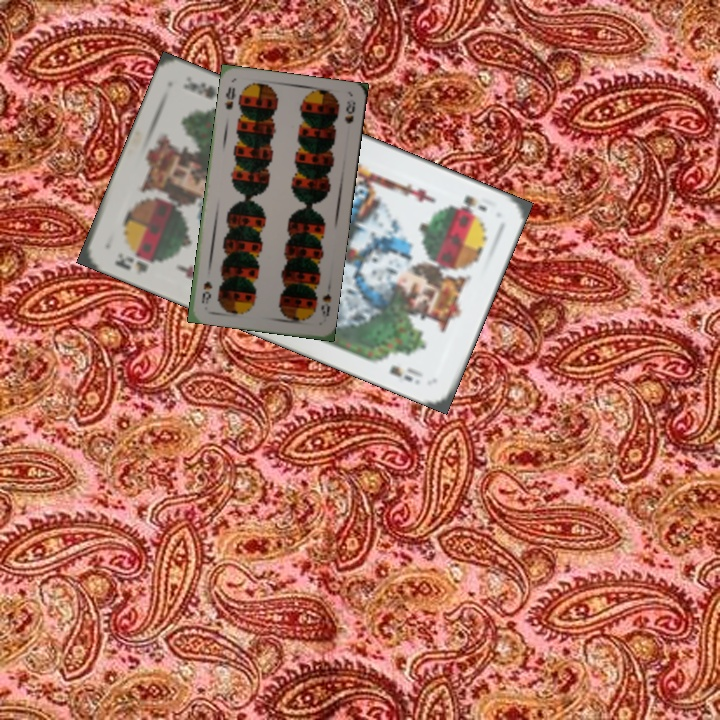S8: (317, 289, 334, 324), (221, 83, 239, 112)
SK: (110, 248, 150, 278), (457, 191, 490, 215)
